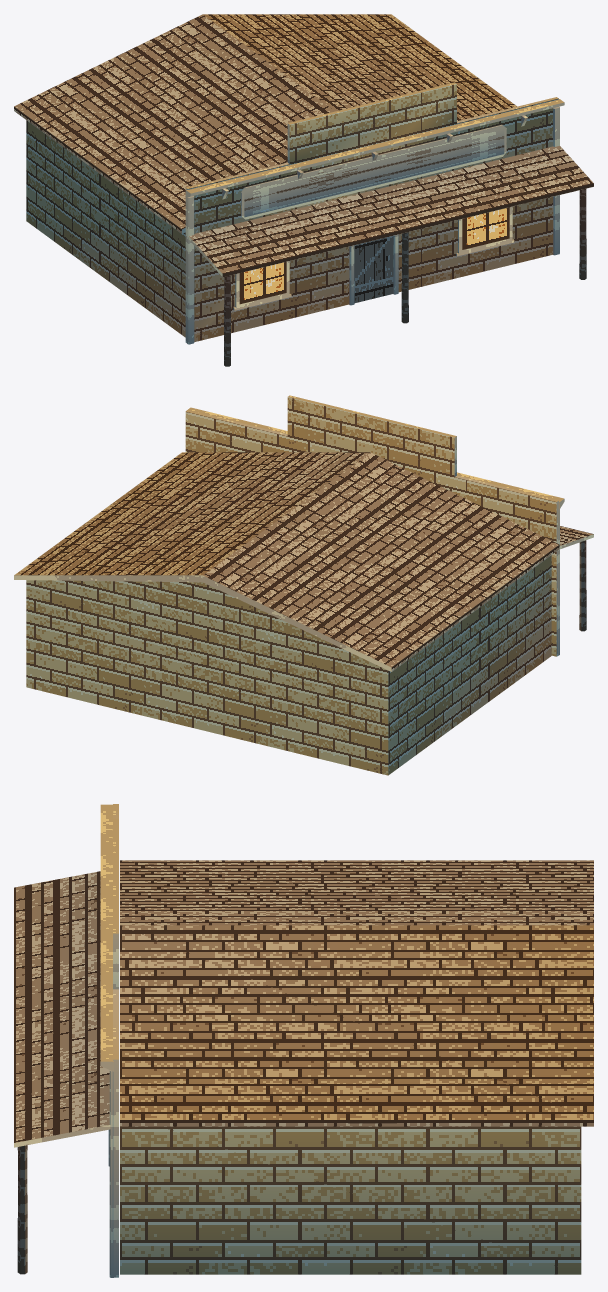
File: wtown.store__brick.glb
3 views of the same model, one above another, from view 1: azimuth 30°, elevation 25°; view 2: azimuth 150°, elevation 25°; view 3: azimuth 270°, elevation 25° (orthographic). The views are drawn at different scales.
Parts seen in each view (by area): view 1: kit_roof, kit_front, kit_porch, kit_body, kit_card_panes, kit_trim, kit_windows; view 2: kit_roof, kit_body, kit_front, kit_porch, kit_trim; view 3: kit_roof, kit_body, kit_porch, kit_trim, kit_front.
Part boxes in pixels (x1,y1,x2,y2): kit_roof: [14, 14, 516, 233]; kit_front: [185, 82, 558, 342]; kit_porch: [188, 146, 593, 366]; kit_body: [26, 120, 185, 337]; kit_card_panes: [239, 128, 509, 304]; kit_trim: [186, 99, 564, 344]; kit_windows: [233, 206, 514, 310]; kit_roof: [14, 452, 559, 671]; kit_body: [26, 555, 551, 775]; kit_front: [185, 395, 558, 656]; kit_porch: [560, 526, 593, 631]; kit_trim: [188, 407, 564, 655]; kit_roof: [120, 860, 593, 1126]; kit_body: [120, 1126, 581, 1274]; kit_porch: [14, 871, 110, 1274]; kit_trim: [100, 804, 113, 1277]; kit_front: [113, 804, 118, 1277].
Size of the model in its own units: 12 by 5.9 by 11.32.
Materials: 7 (7 with a texture image).
